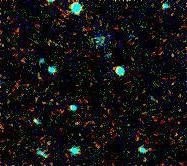star: (62, 107, 92, 137)
